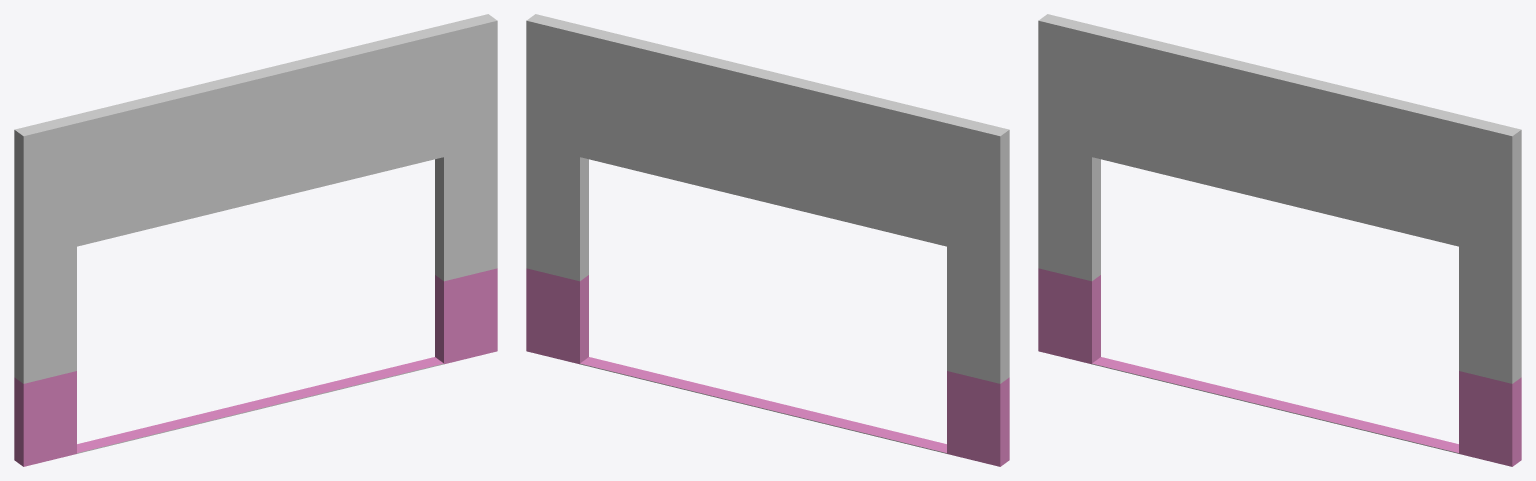
The model's file is WallOffice3.fbx.
The picture shows the model from 3 angles, left to right: view 1: azimuth 30°, elevation 25°; view 2: azimuth 150°, elevation 25°; view 3: azimuth 330°, elevation 25°; orthographic projection.
Parts seen in each view (by area): view 1: WallOffice3; view 2: WallOffice3; view 3: WallOffice3.
Part boxes in pixels (x1=…): WallOffice3: x1=14, y1=14, x2=497, y2=466; WallOffice3: x1=526, y1=14, x2=1009, y2=466; WallOffice3: x1=1038, y1=14, x2=1521, y2=466.
Size of the model in its own units: 6 by 4 by 0.2001.
